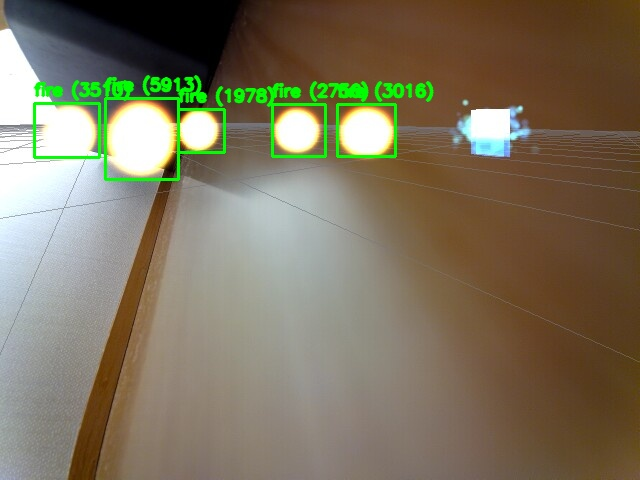fire: (105, 98, 178, 179), (34, 103, 99, 157), (337, 104, 395, 156), (272, 104, 325, 156), (178, 109, 224, 152)
